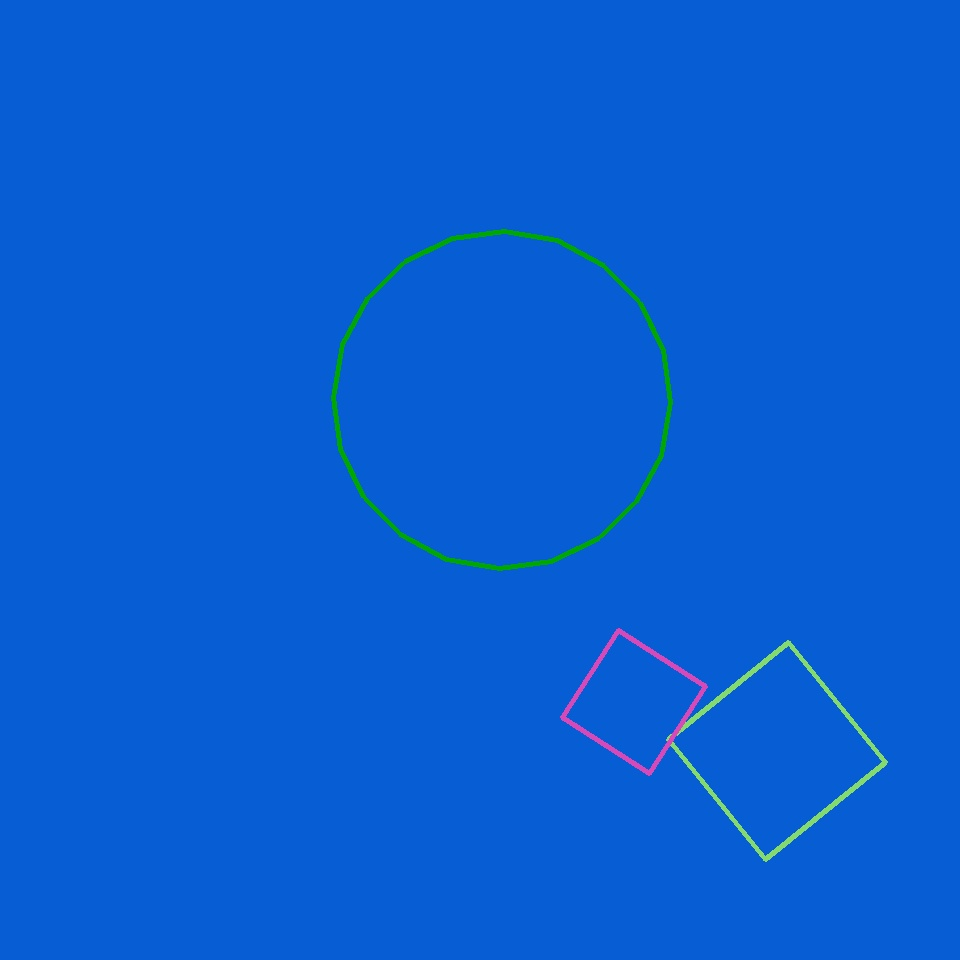square: (668, 642, 886, 860), (562, 630, 706, 774)
triangle: (334, 232, 670, 568)
